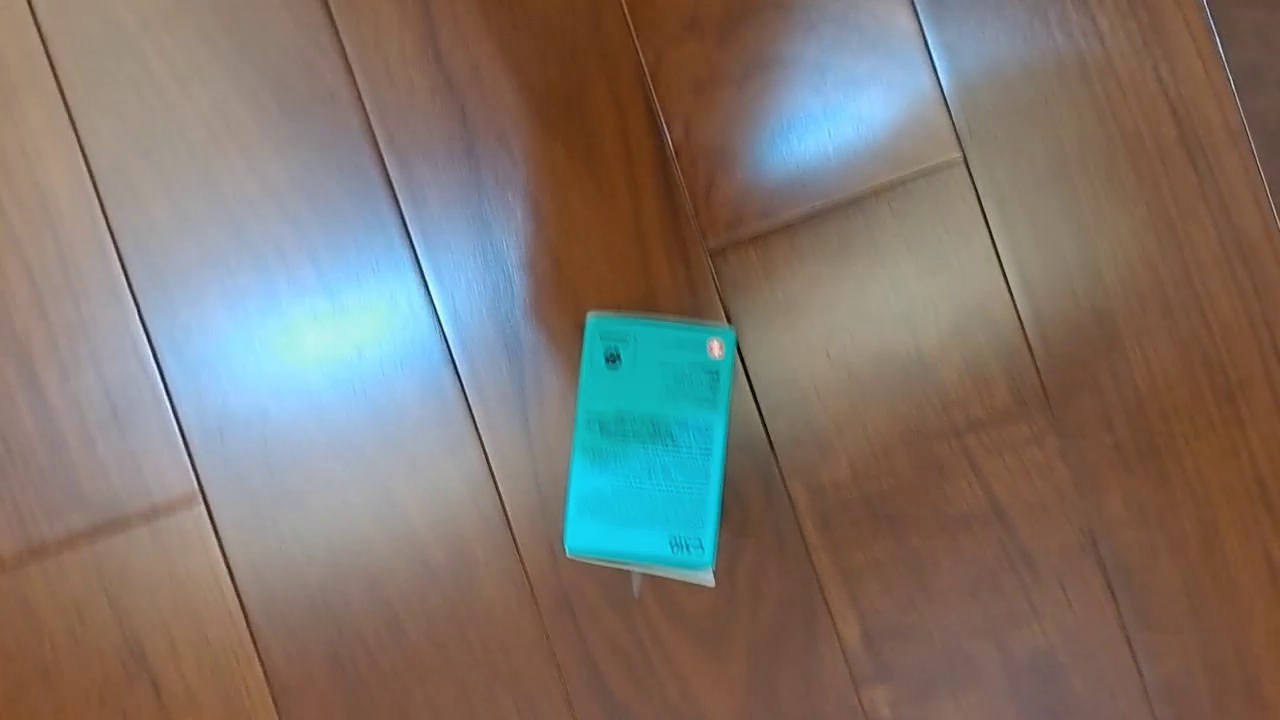webcam: (562, 308, 738, 589)
